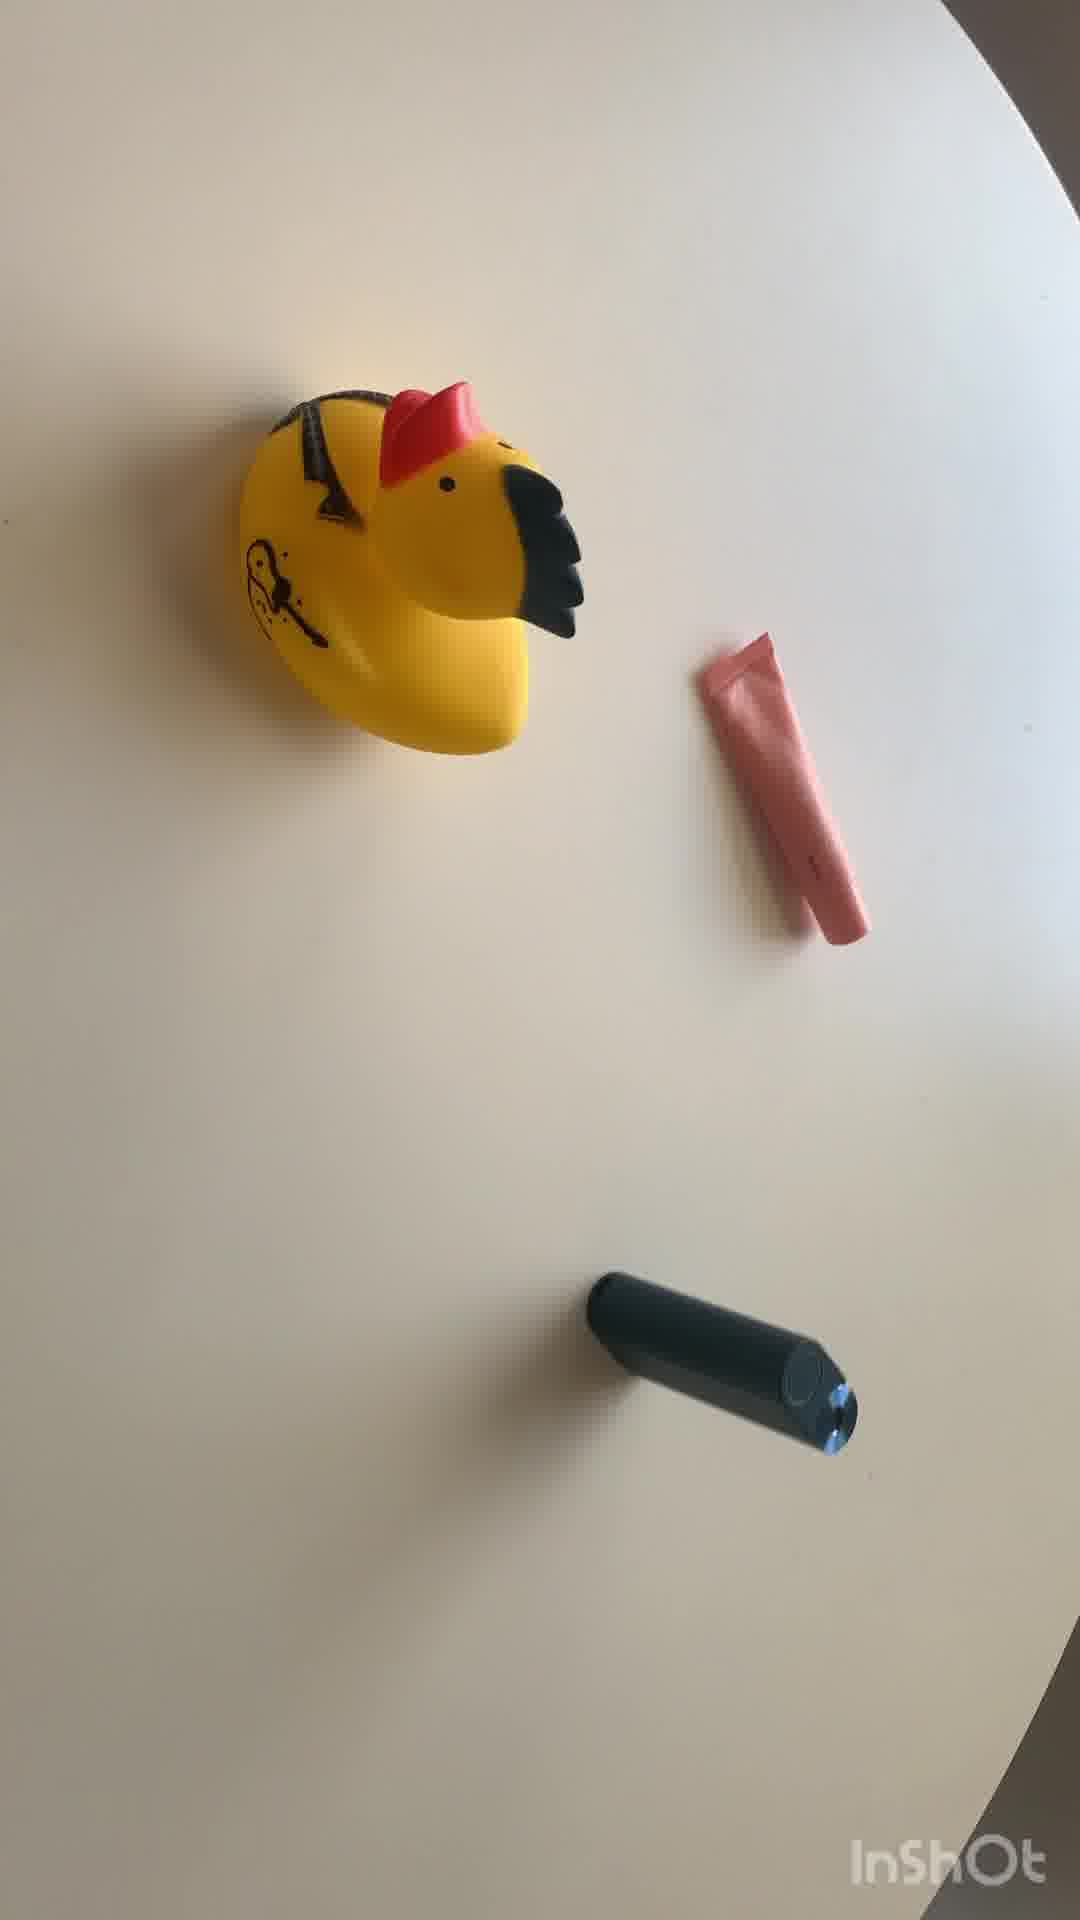duck: (228, 386, 580, 769)
glo: (585, 1280, 862, 1458)
lip balm: (698, 641, 874, 953)
